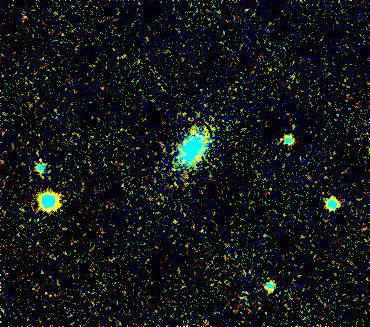star: (177, 116, 207, 146)
